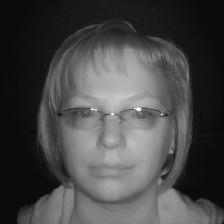normal: (32, 19, 199, 206)
